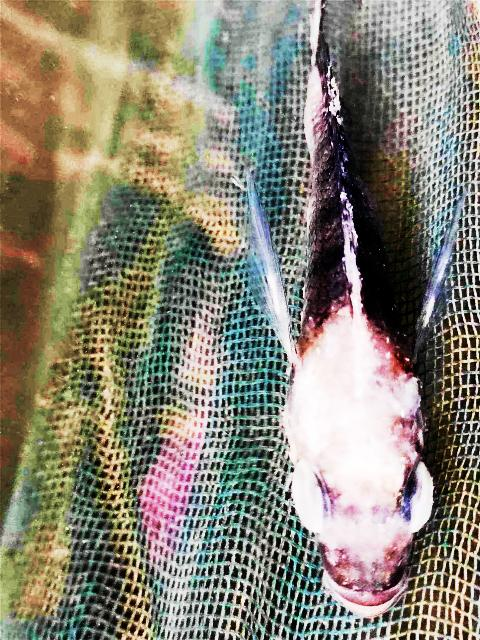Columnaris Disease: (248, 0, 433, 616)
